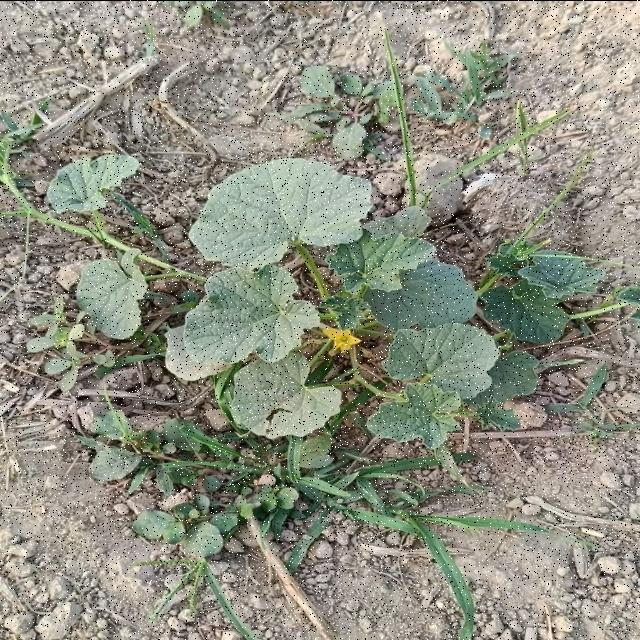plant: (165, 156, 598, 448), (76, 247, 160, 338), (48, 154, 137, 209)
